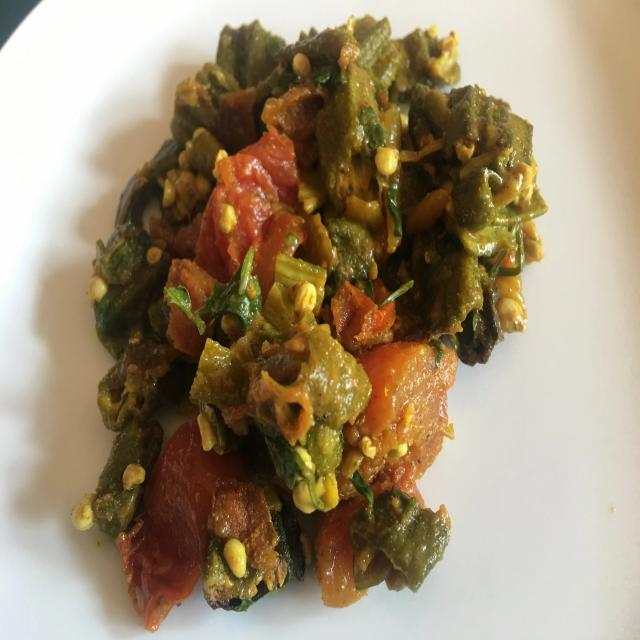BhindiMasala: (70, 14, 548, 632)
